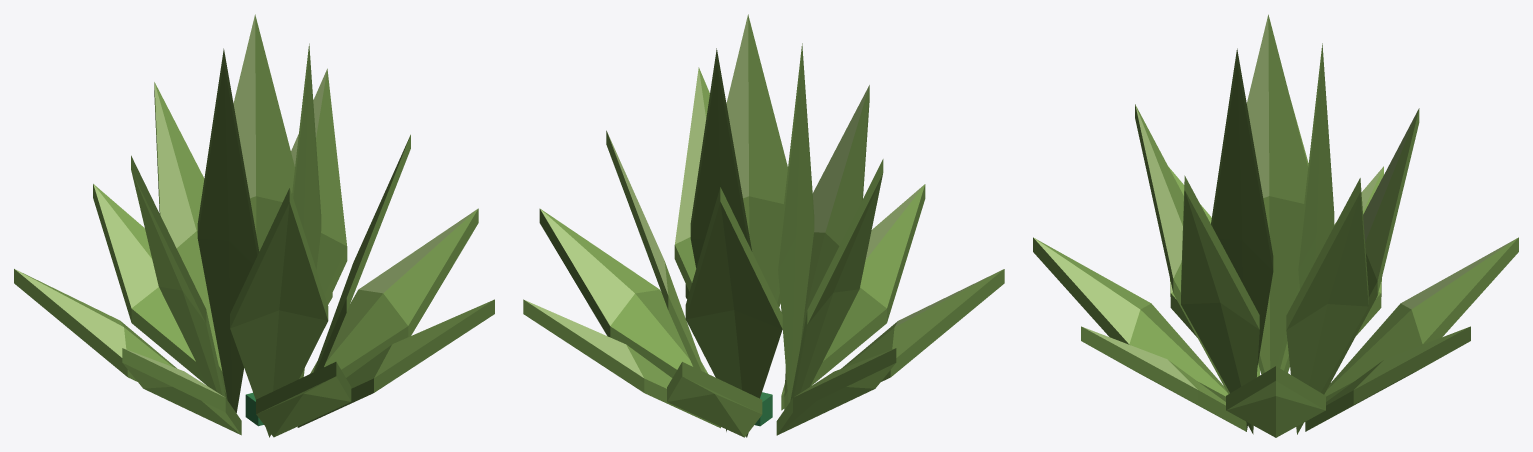
Rendered from aloe_vera_stage_02.fbx.
3 views of the same model, side by side, from view 1: azimuth 30°, elevation 25°; view 2: azimuth 150°, elevation 25°; view 3: azimuth 270°, elevation 25° (orthographic).
Parts seen in each view (by area): view 1: aloe_vera_stage_02__Foliage; view 2: aloe_vera_stage_02__Foliage; view 3: aloe_vera_stage_02__Foliage.
Boxes of the visible parts, bbox=[...] form: aloe_vera_stage_02__Foliage: bbox=[14, 14, 494, 437]; aloe_vera_stage_02__Foliage: bbox=[523, 14, 1004, 437]; aloe_vera_stage_02__Foliage: bbox=[1033, 14, 1518, 437].
Bounding box in the file's own units: 0.7604 × 0.686 × 0.7799.
Materials: 1 (1 with a texture image).
